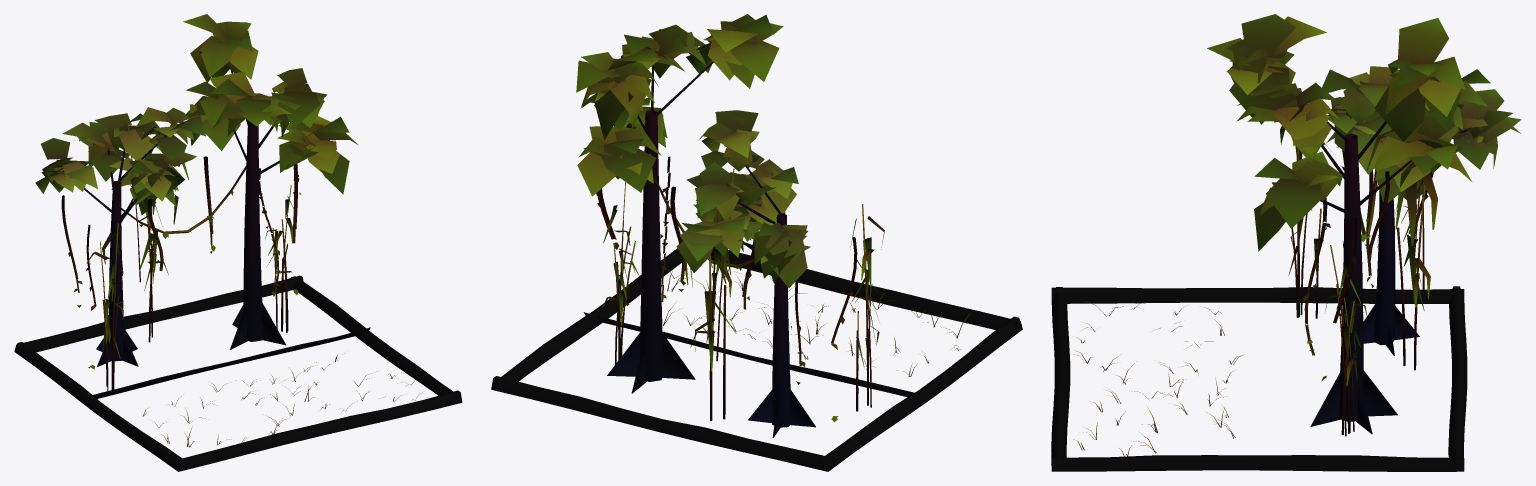
Rendered from patch_paddy_edge_far.glb.
3 renders of one model, left to right at view 1: azimuth 30°, elevation 25°; view 2: azimuth 150°, elevation 25°; view 3: azimuth 270°, elevation 25°, orthographic. The views are drawn at different scales.
Parts seen in each view (by area): view 1: patch_paddy_edge_far; view 2: patch_paddy_edge_far; view 3: patch_paddy_edge_far.
Part boxes in pixels (left/top/right/bottom): patch_paddy_edge_far: left=14, top=14, right=462, bottom=471; patch_paddy_edge_far: left=491, top=14, right=1022, bottom=471; patch_paddy_edge_far: left=1051, top=14, right=1521, bottom=471.
Size of the model in its own units: 12.11 by 12.08 by 13.69.
Materials: 1 (1 with a texture image).
